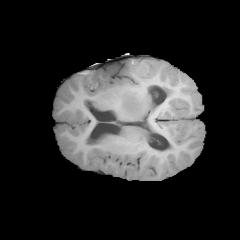glioma: (121, 91, 145, 116)
